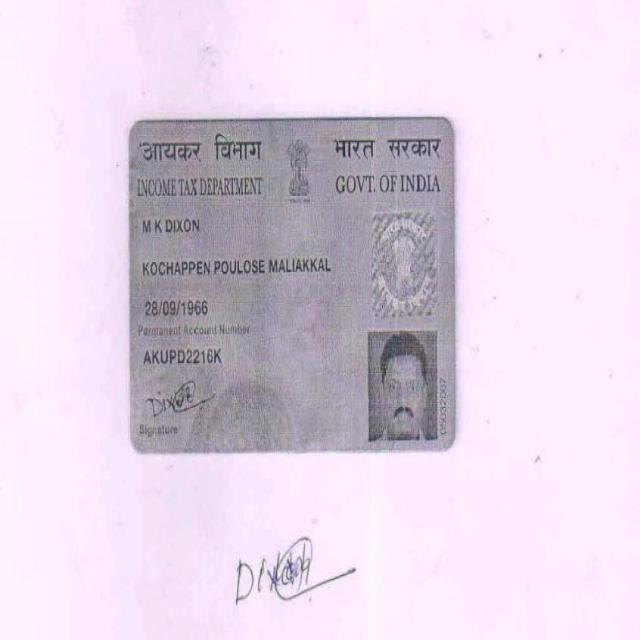pan_card: (131, 117, 457, 456)
